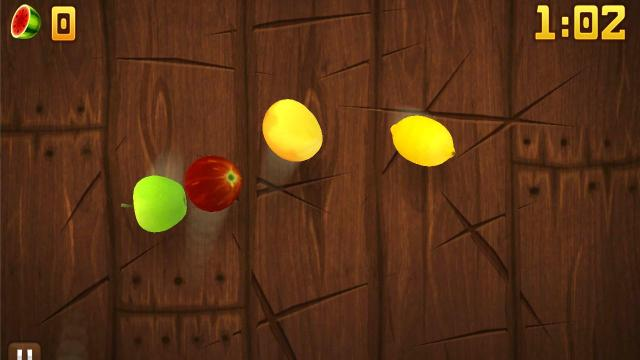fruit: (262, 98, 324, 162), (389, 114, 456, 168), (184, 154, 242, 211), (132, 176, 188, 232)
ignore: (10, 4, 42, 40)
